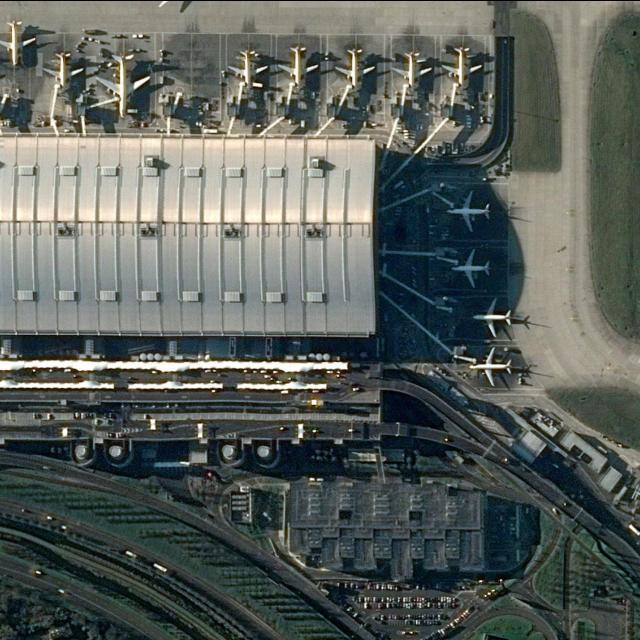Aircraft: (96, 53, 151, 118), (447, 190, 493, 231), (470, 346, 515, 386), (451, 247, 493, 288), (391, 50, 433, 90), (334, 47, 376, 87), (277, 46, 319, 86), (0, 21, 37, 66), (474, 297, 514, 338), (442, 47, 484, 86), (229, 50, 269, 89), (43, 52, 84, 90)
